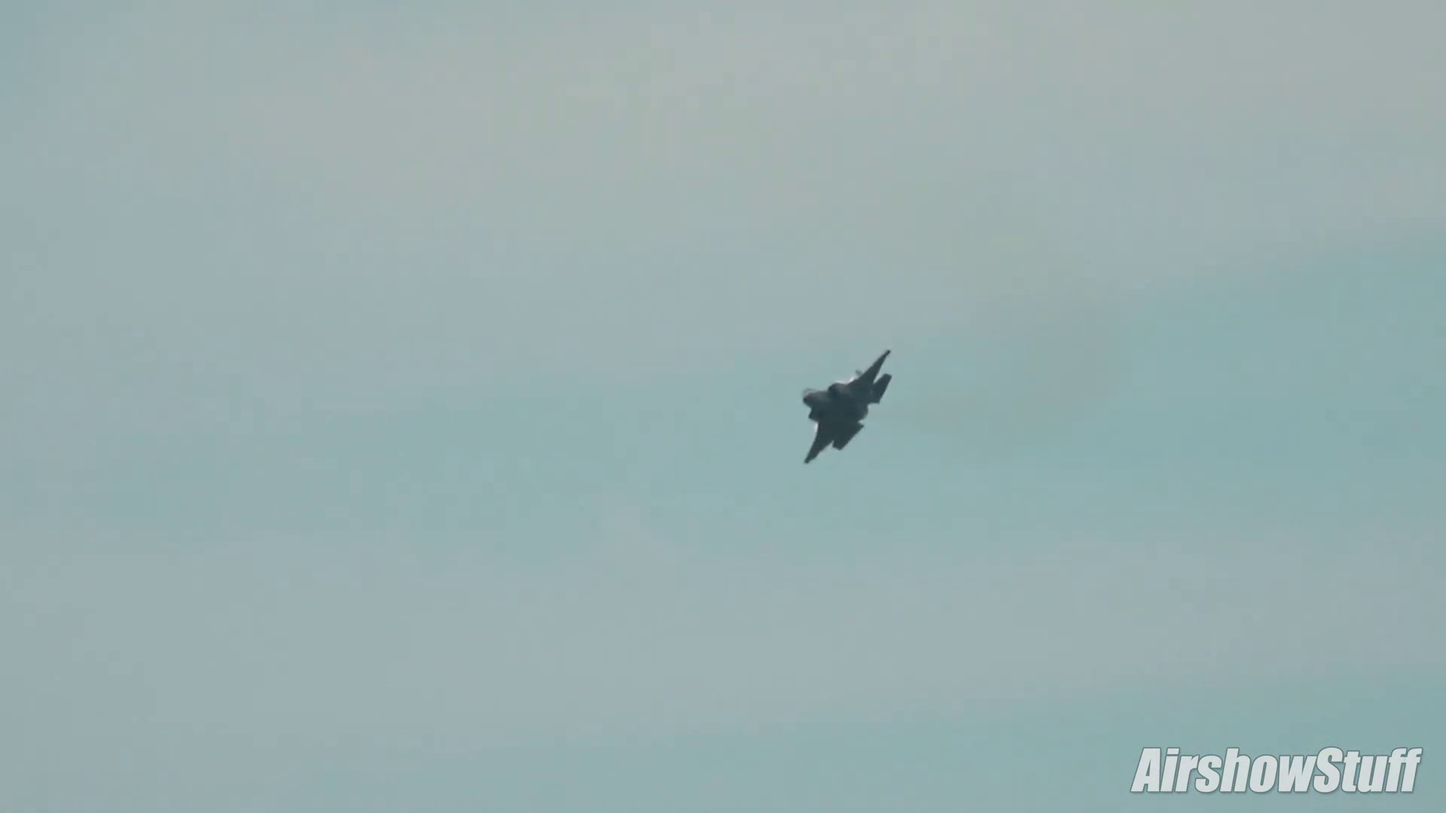F35: (792, 342, 903, 474)
